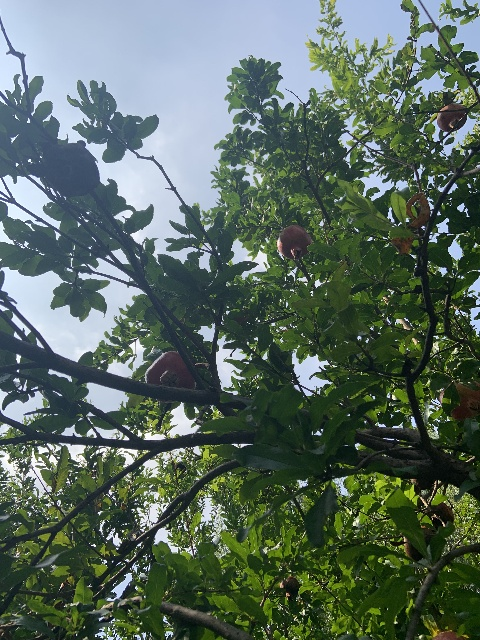ripe: (145, 350, 199, 402), (439, 381, 480, 420), (276, 224, 311, 259), (436, 103, 466, 132)
